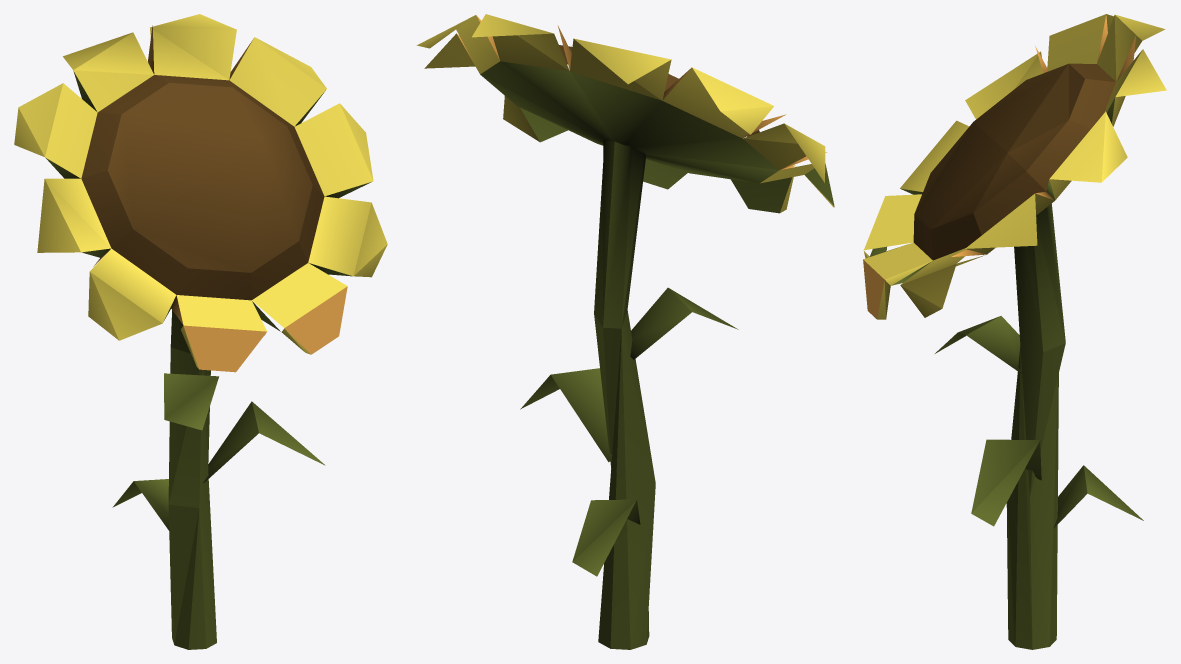
File: plant_sunflower_1.glb
3 views of the same model, side by side, from view 1: azimuth 30°, elevation 25°; view 2: azimuth 150°, elevation 25°; view 3: azimuth 270°, elevation 25° (orthographic). The views are drawn at different scales.
Visible parts, largest first — view 1: plant_sunflower_1; view 2: plant_sunflower_1; view 3: plant_sunflower_1.
Boxes of the visible parts, x1,y1,x2,y2 form: plant_sunflower_1: [14, 14, 387, 649]; plant_sunflower_1: [416, 14, 834, 649]; plant_sunflower_1: [863, 14, 1166, 649].
Bounding box in the file's own units: 1.17 × 1.9 × 0.8703.
